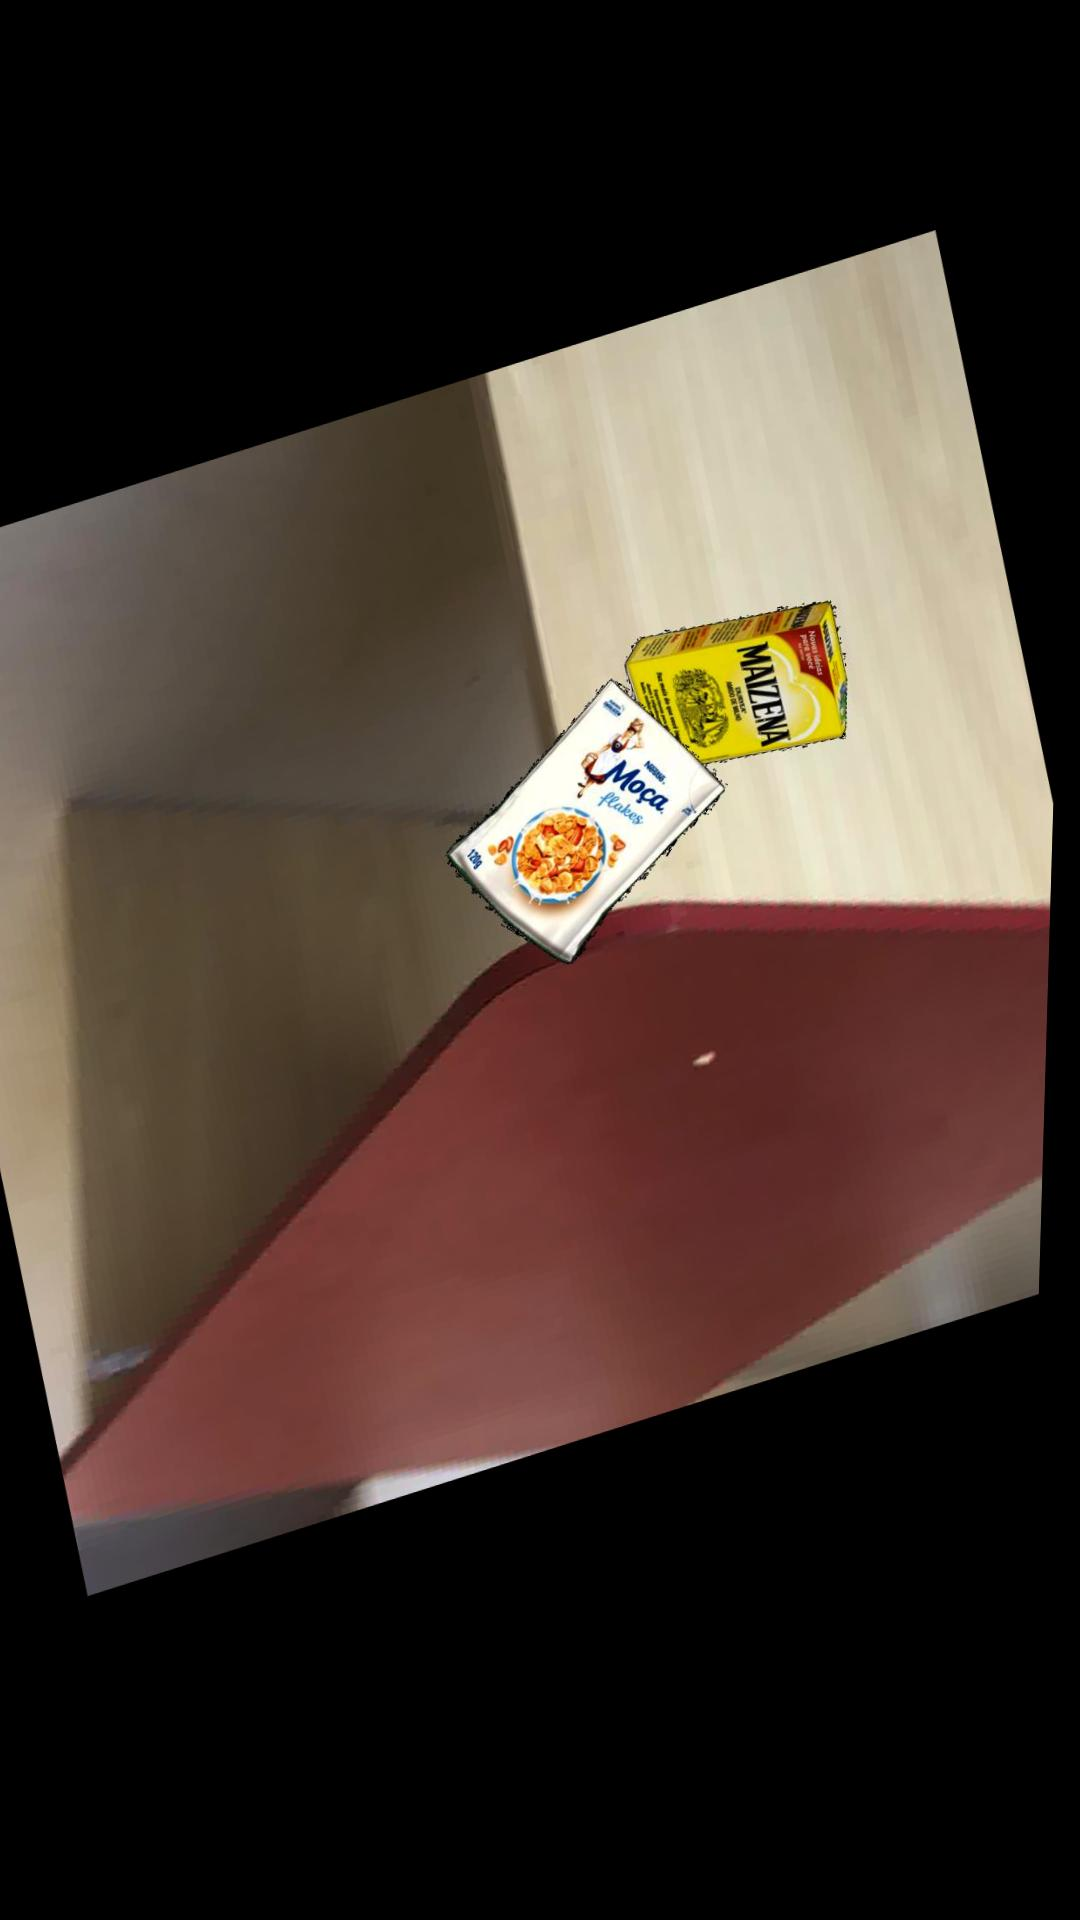corn flakes: (451, 688, 729, 973)
